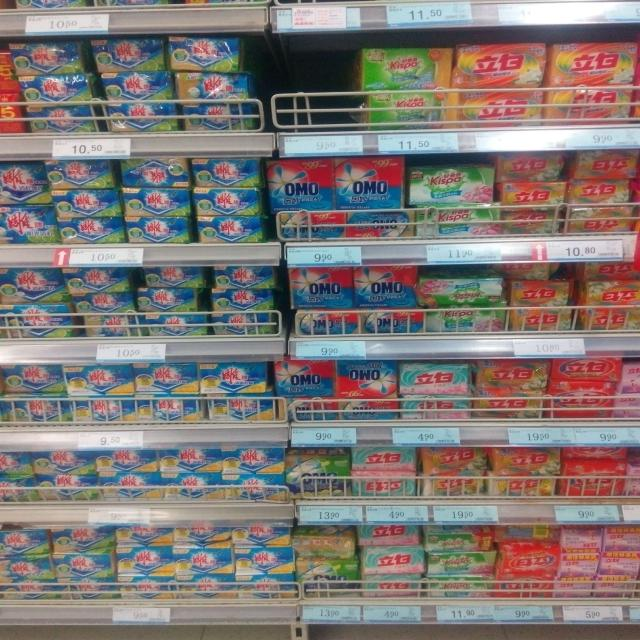void: (280, 47, 351, 129)
